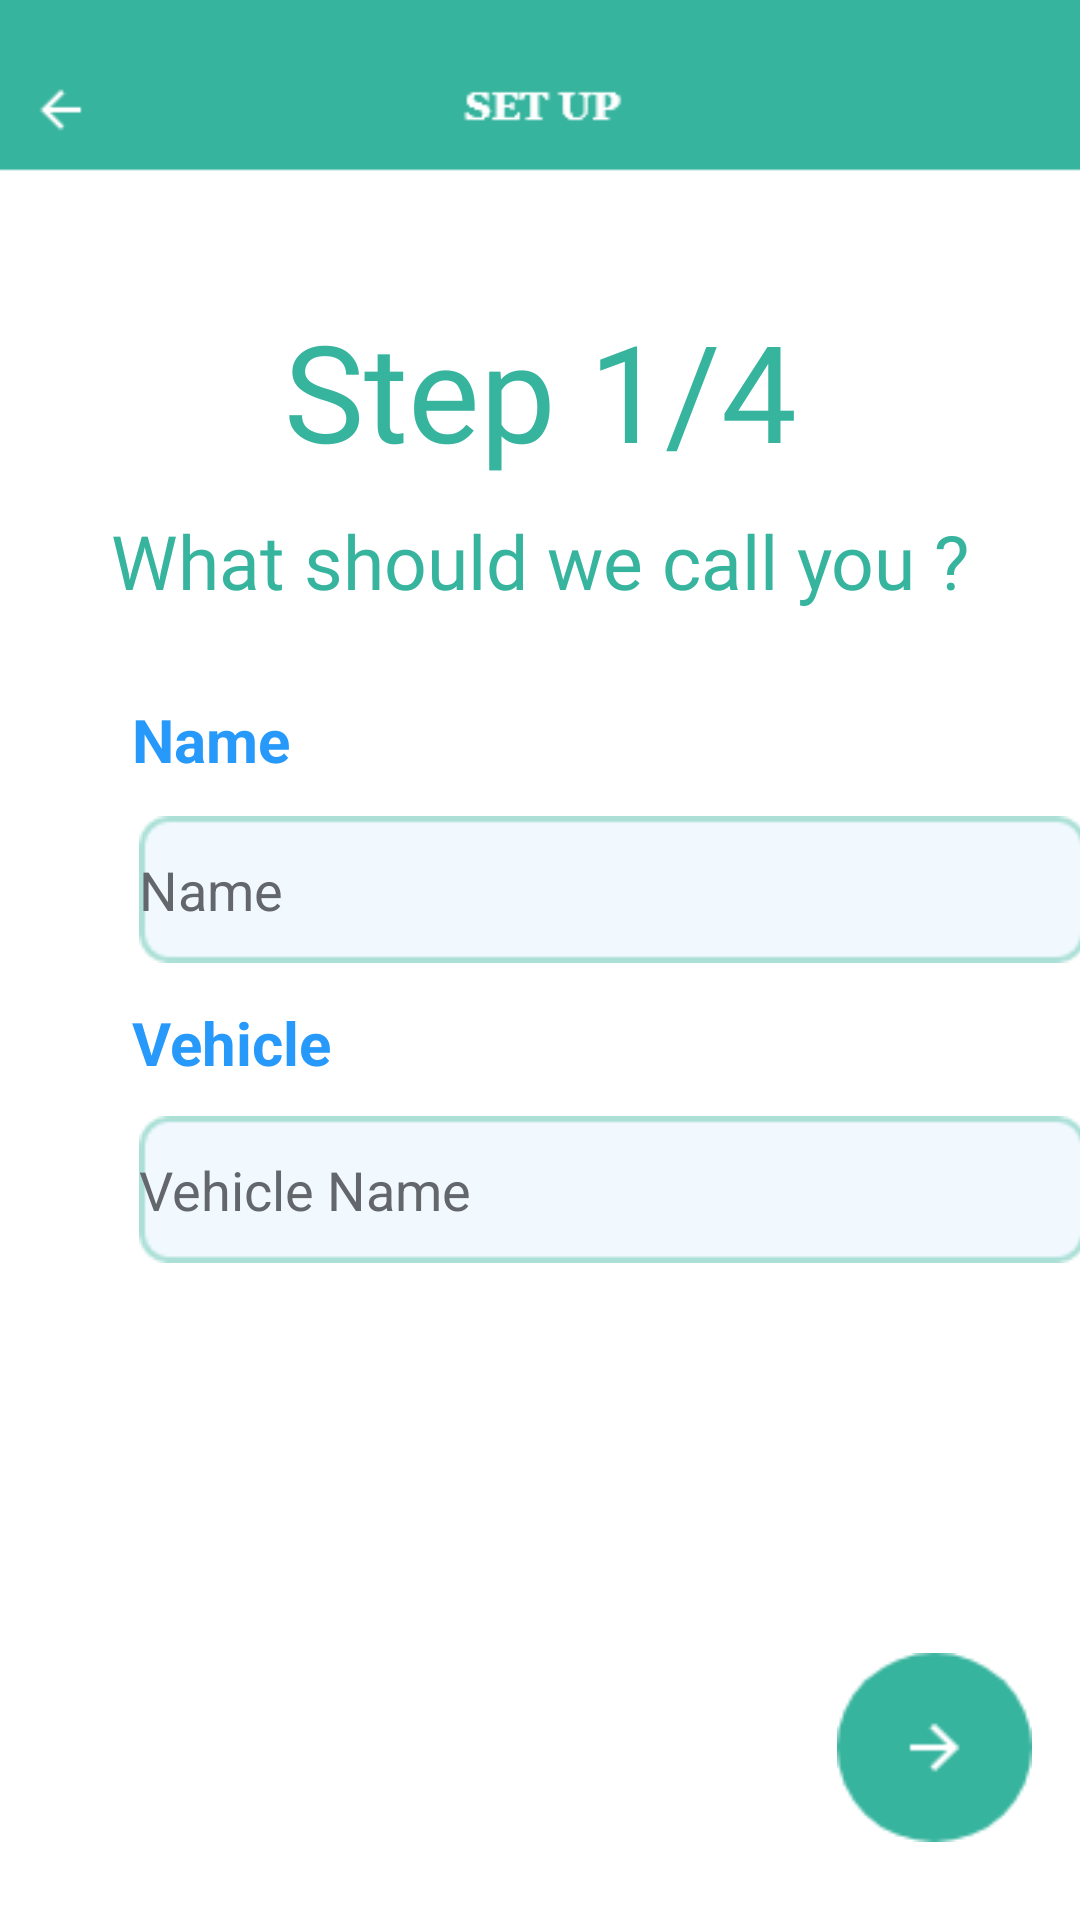

Icon bounding boxes for this 1080*1920 phone screenshot, format (x1, y1, x2, y2):
next: (837, 1653, 1032, 1842)
